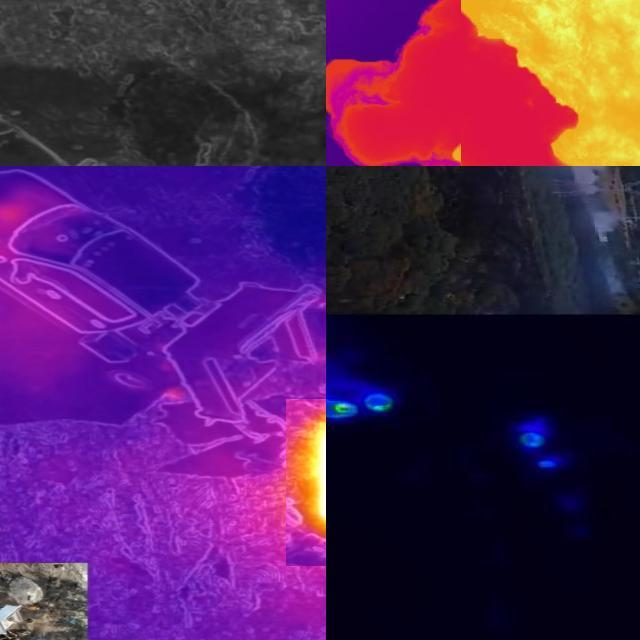fire: (471, 1, 640, 165), (300, 400, 330, 527)
